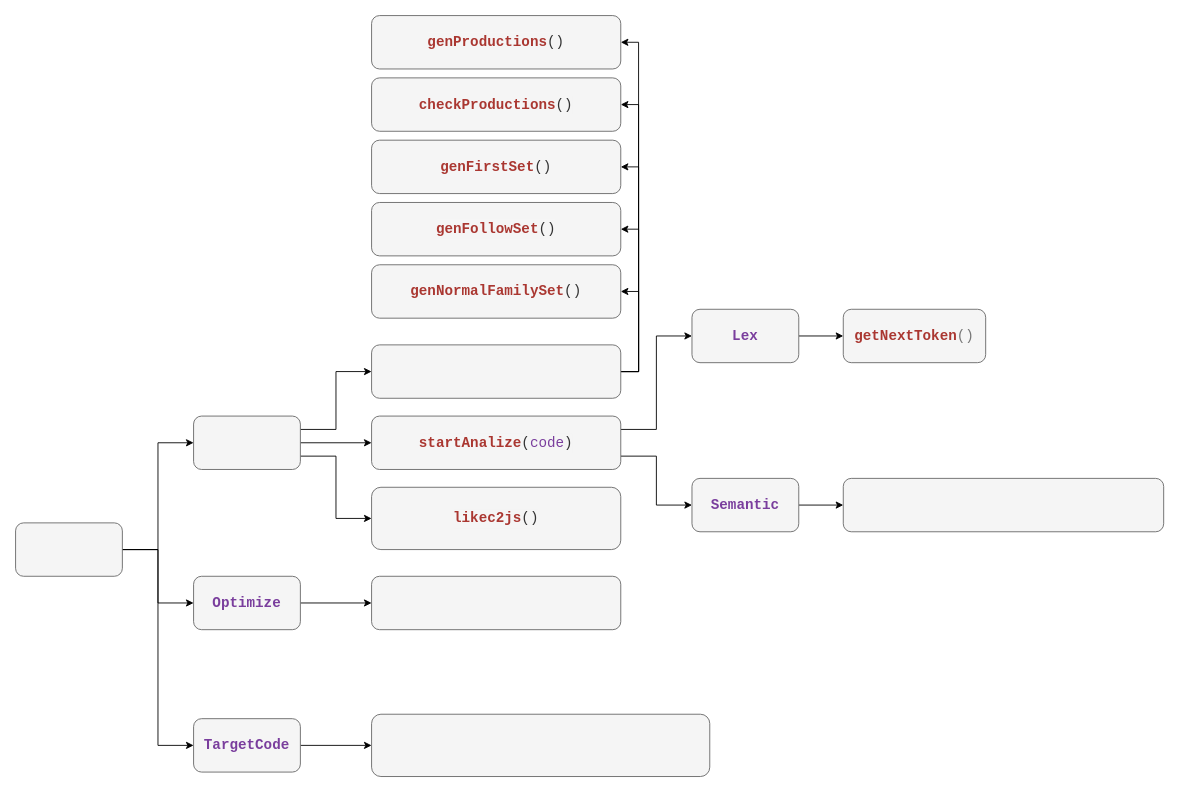
This 1179x792 diagram has some shape labels left out. The box of each missing label's shape, as (x1, y1, x2, y2) in pixels:
getOptimized ( mid_code ): (371, 575, 621, 630)
getTargetCode ( optMidCode , symbolTables ): (371, 713, 710, 777)
parse ( code ): (15, 522, 122, 576)
preForSyntacticAnalyzer (): (371, 344, 621, 398)
startAnalize ( left , rightNum , symbols ): (842, 477, 1164, 532)
Syntactic: (193, 415, 300, 469)
